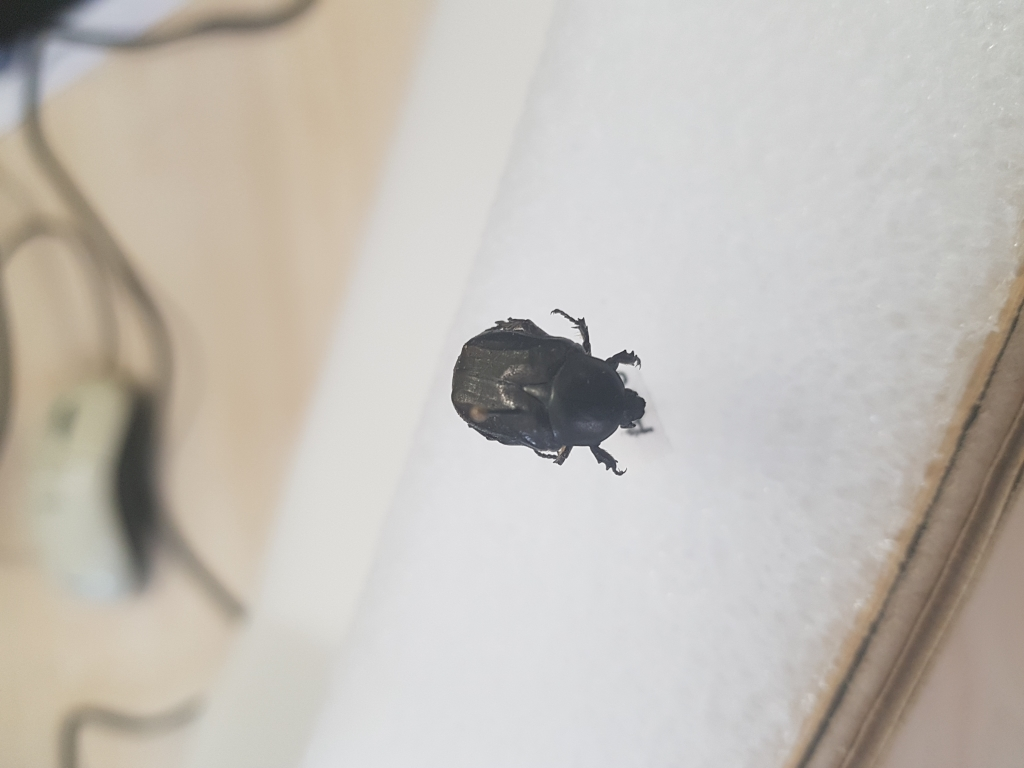Protaetia_vidua: (439, 295, 663, 479)
